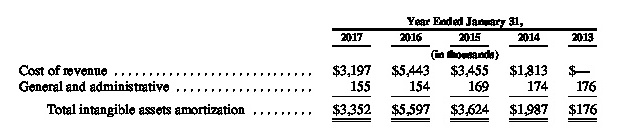table: (0, 0, 627, 139)
